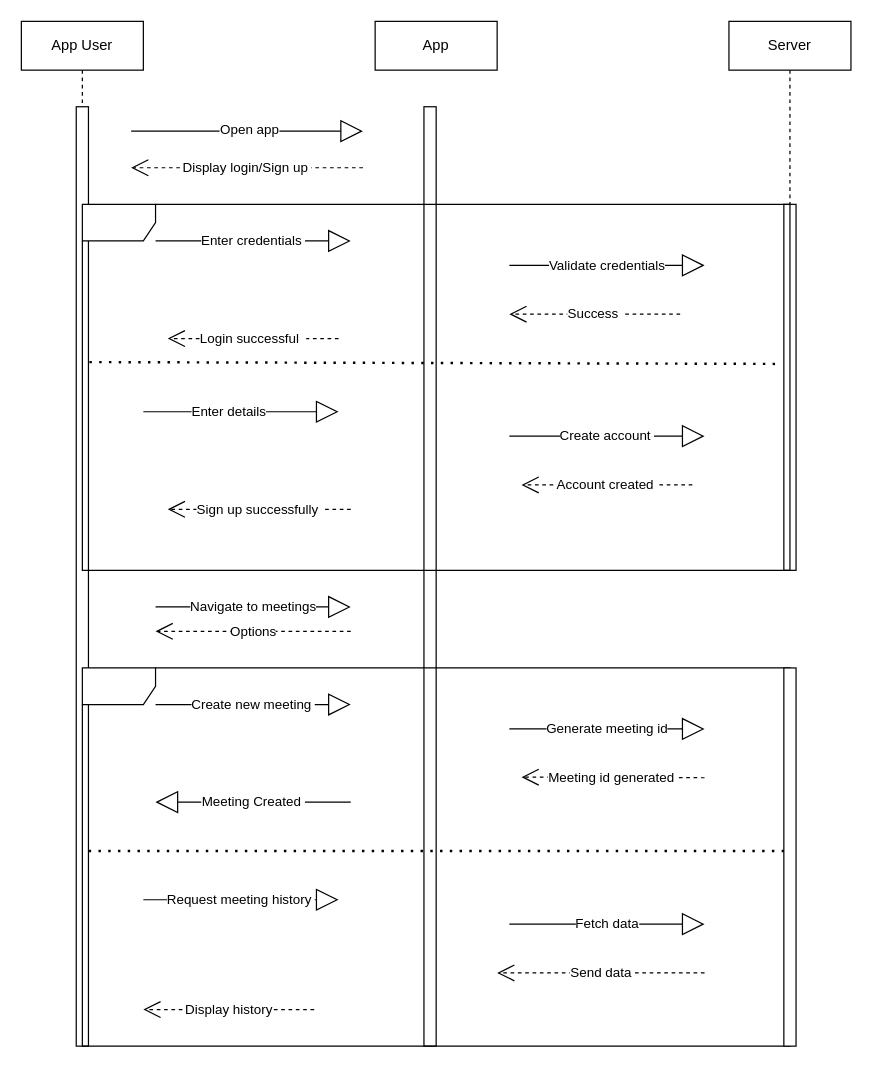
The diagram is 872 pixels wide and 1068 high, and some of its shapes have lost their labels. The centre of each missing label's shape, as x and y in pixels:
Alt: [435,386]
Par: [435,856]
